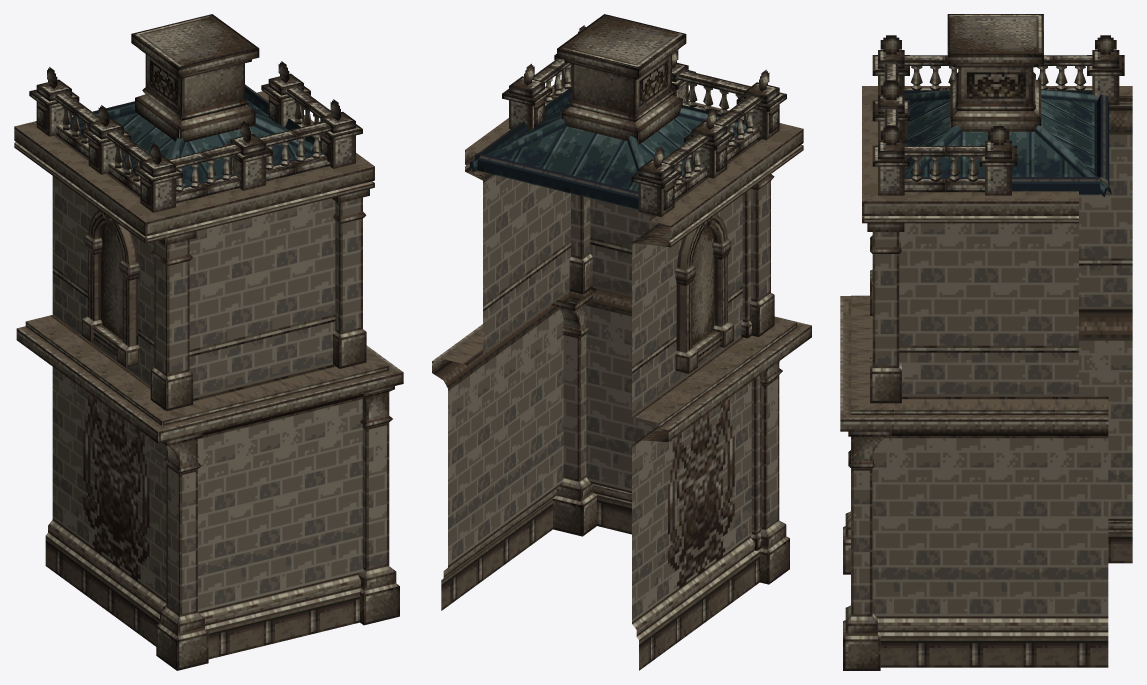
Rendered from EnvBdgMD_Theater_A_Outdoor_Side_R.FBX.
The picture shows the model from 3 angles, left to right: view 1: azimuth 30°, elevation 25°; view 2: azimuth 150°, elevation 25°; view 3: azimuth 270°, elevation 25°; orthographic projection. The views are drawn at different scales.
Visible parts, largest first — view 1: EnvBdgMD_Theater_A_Outdoor_Side_R; view 2: EnvBdgMD_Theater_A_Outdoor_Side_R; view 3: EnvBdgMD_Theater_A_Outdoor_Side_R.
Boxes of the visible parts, x1,y1,x2,y2 form: EnvBdgMD_Theater_A_Outdoor_Side_R: (14, 14, 403, 670); EnvBdgMD_Theater_A_Outdoor_Side_R: (432, 14, 811, 670); EnvBdgMD_Theater_A_Outdoor_Side_R: (840, 14, 1132, 670).
Size of the model in its own units: 551 by 1175 by 545.
1 material, 1 textured.
